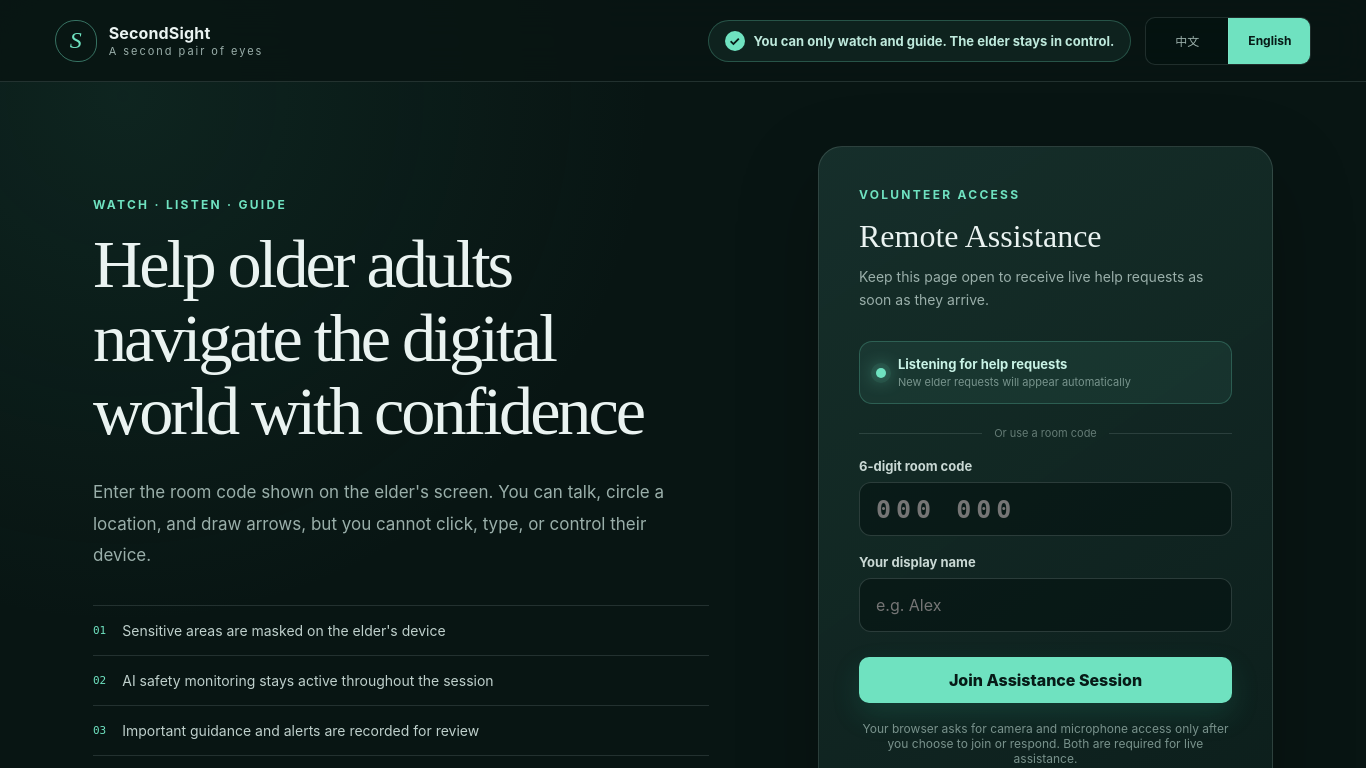
Test: volunteer app › stops prepared media when the backend rejects a join
Type "482913" into the field labelled "6-digit room code" at [1045, 509], box x1=859 y1=482 x2=1232 y2=536
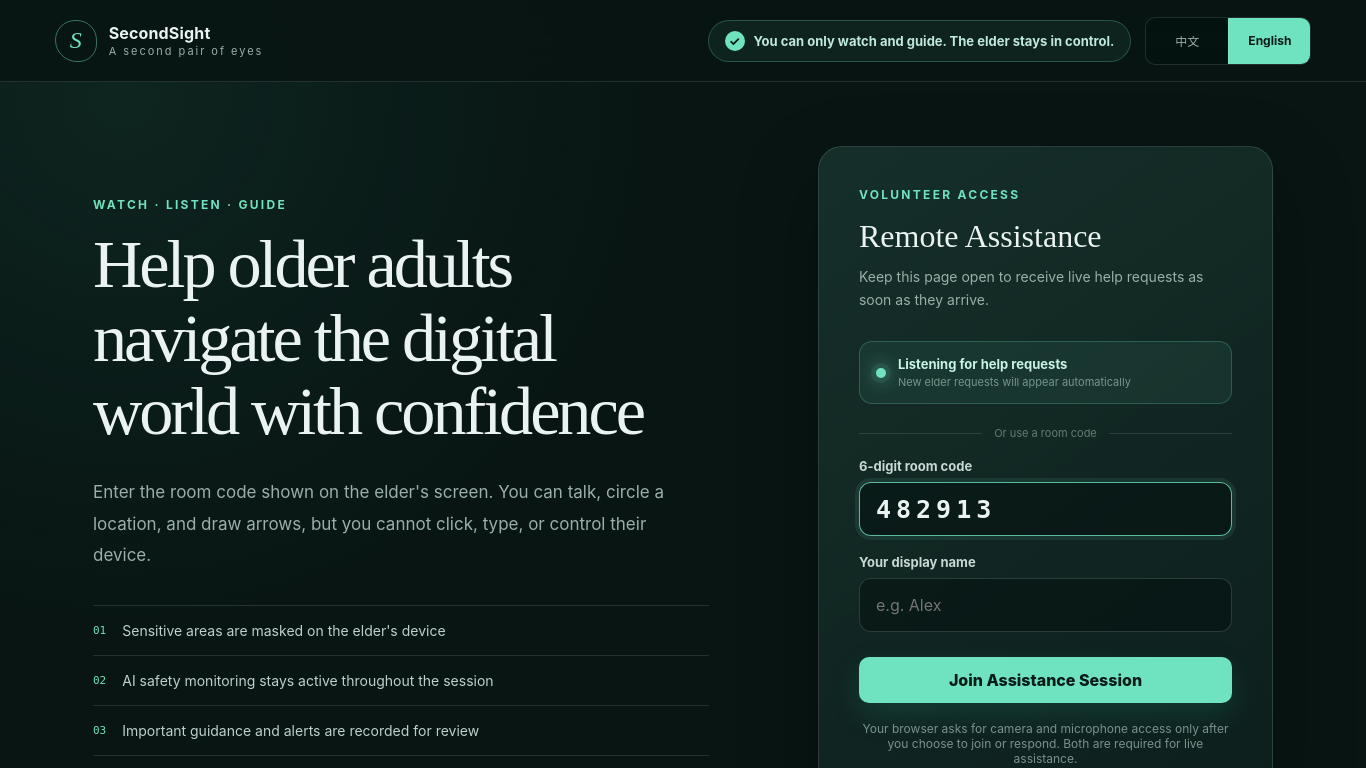
Type "Alex" into the field labelled "Your display name" at [1045, 605], box x1=859 y1=578 x2=1232 y2=632
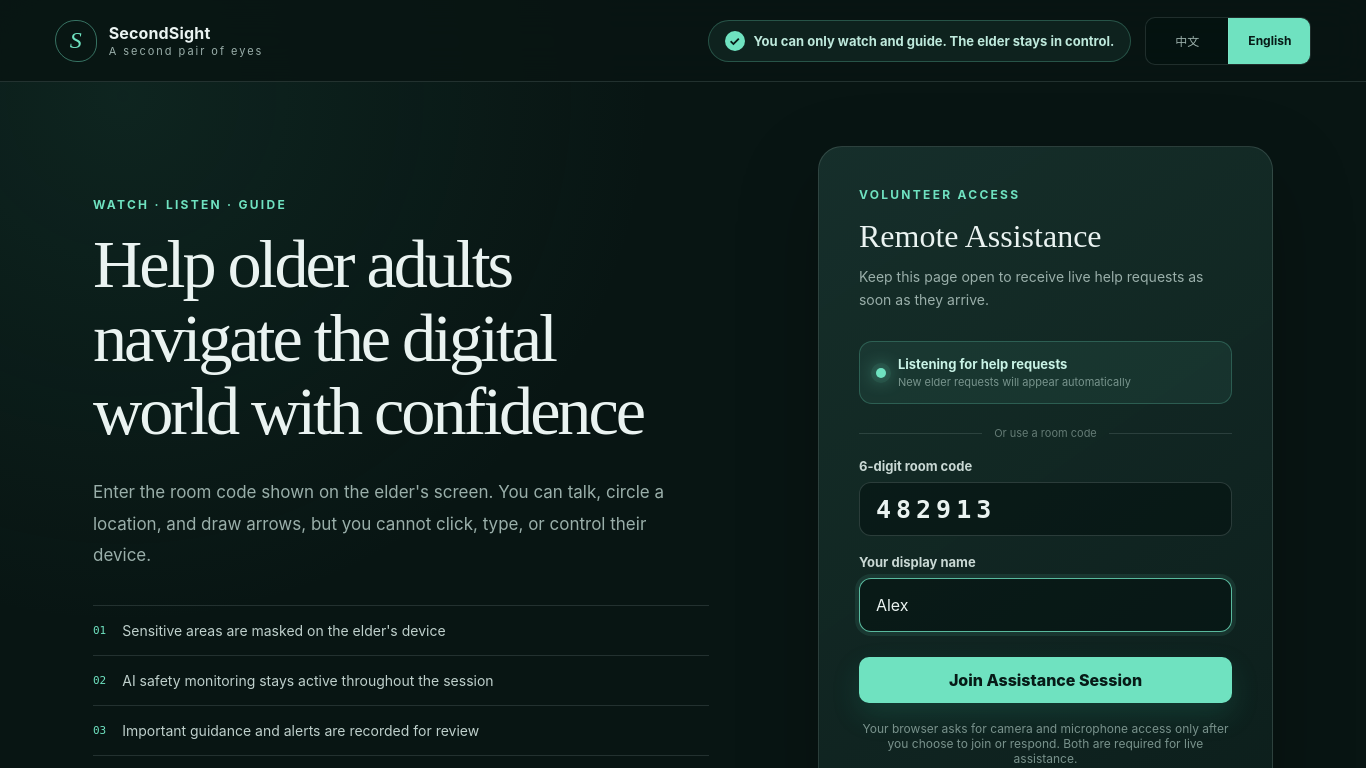
Click the button "Join Assistance Session" at [1045, 680], box x1=859 y1=657 x2=1232 y2=703
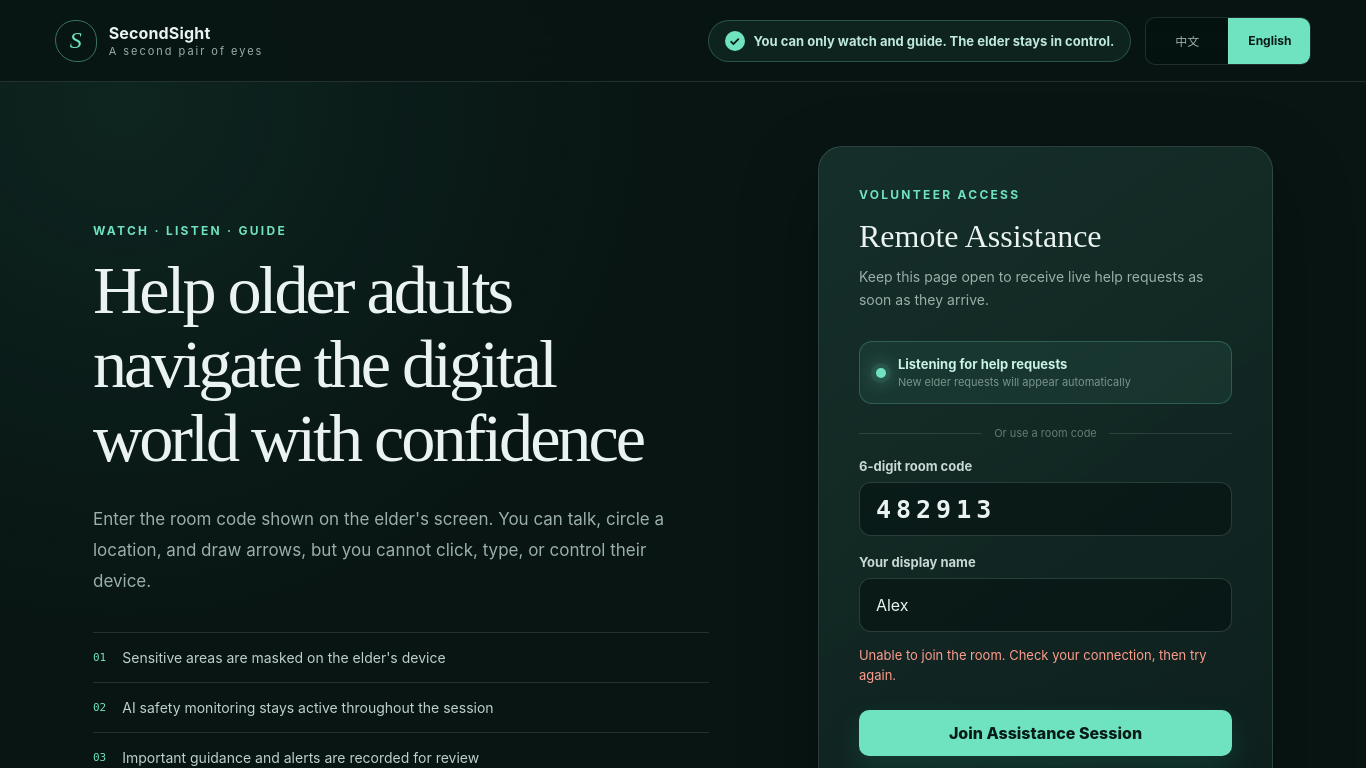
expect the message "Unable to join the room. Check your connection, then try again." is shown: met, box x1=859 y1=646 x2=1232 y2=685
